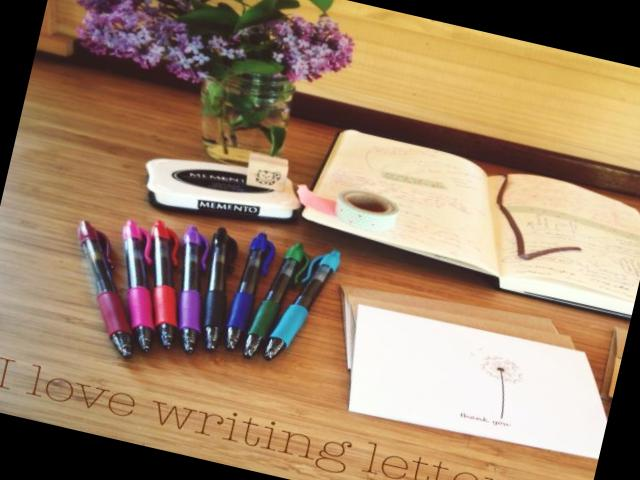PEN: (219, 231, 315, 367), (248, 243, 349, 372), (71, 216, 136, 369), (210, 223, 277, 352), (113, 218, 157, 355), (146, 215, 185, 351), (203, 224, 235, 352)
